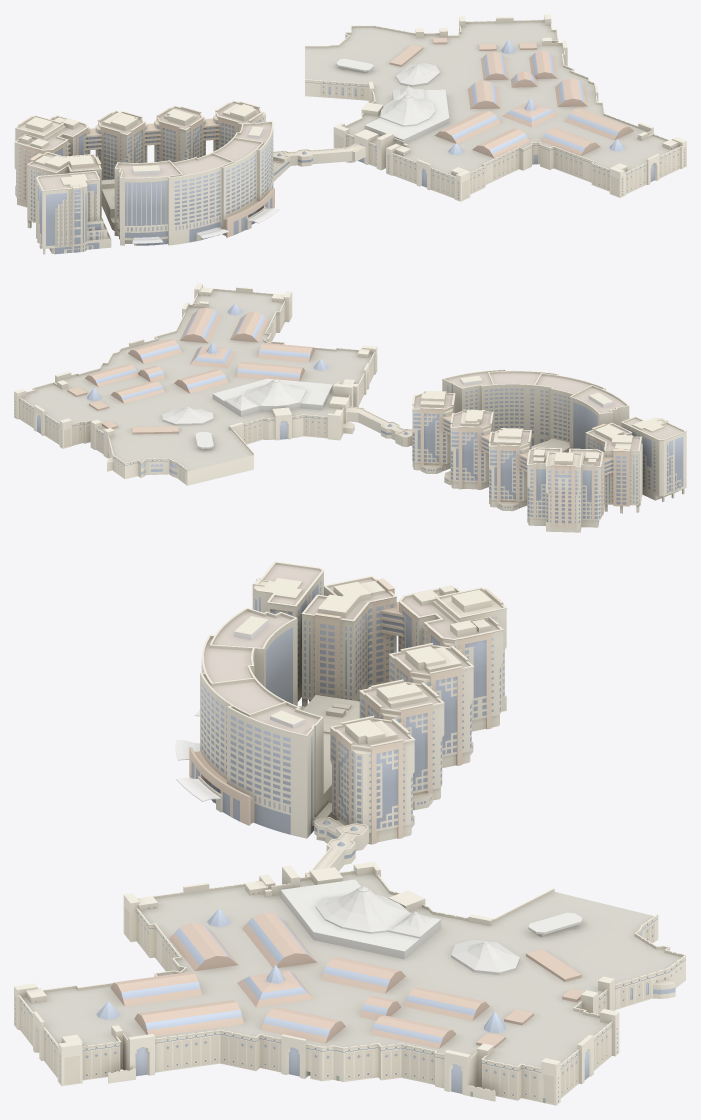
Rendered from Rashid-Mall-Hyatt.glb.
3 renders of one model, top to bottom at view 1: azimuth 30°, elevation 25°; view 2: azimuth 150°, elevation 25°; view 3: azimuth 270°, elevation 25°, orthographic. The views are drawn at different scales.
Visible parts, largest first — view 1: alrashidmall, alrashidmall.004; view 2: alrashidmall, alrashidmall.004; view 3: alrashidmall, alrashidmall.004.
Part boxes in pixels (bbox=[...]): alrashidmall: bbox=[305, 14, 686, 201]; alrashidmall.004: bbox=[14, 100, 365, 254]; alrashidmall: bbox=[14, 283, 377, 485]; alrashidmall.004: bbox=[346, 369, 686, 532]; alrashidmall: bbox=[14, 861, 686, 1105]; alrashidmall.004: bbox=[175, 561, 506, 877].
Bounding box in the file's own units: 509 × 57.04 × 324.
3 materials, 3 textured.
